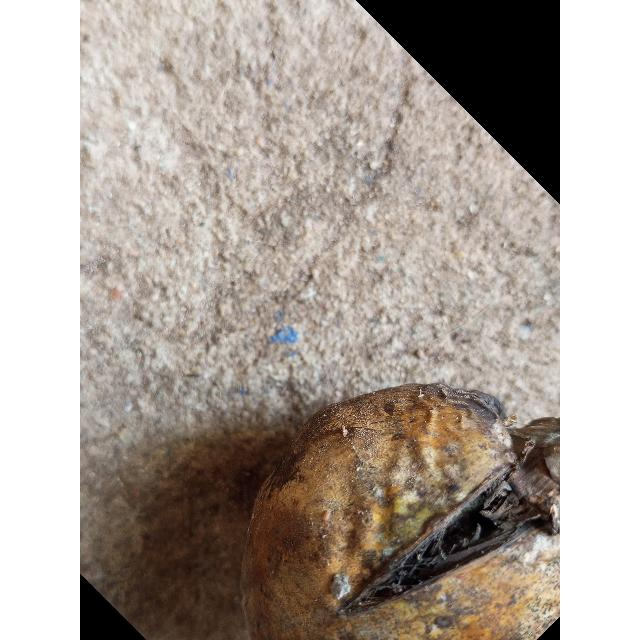damaged: (240, 384, 560, 640)
